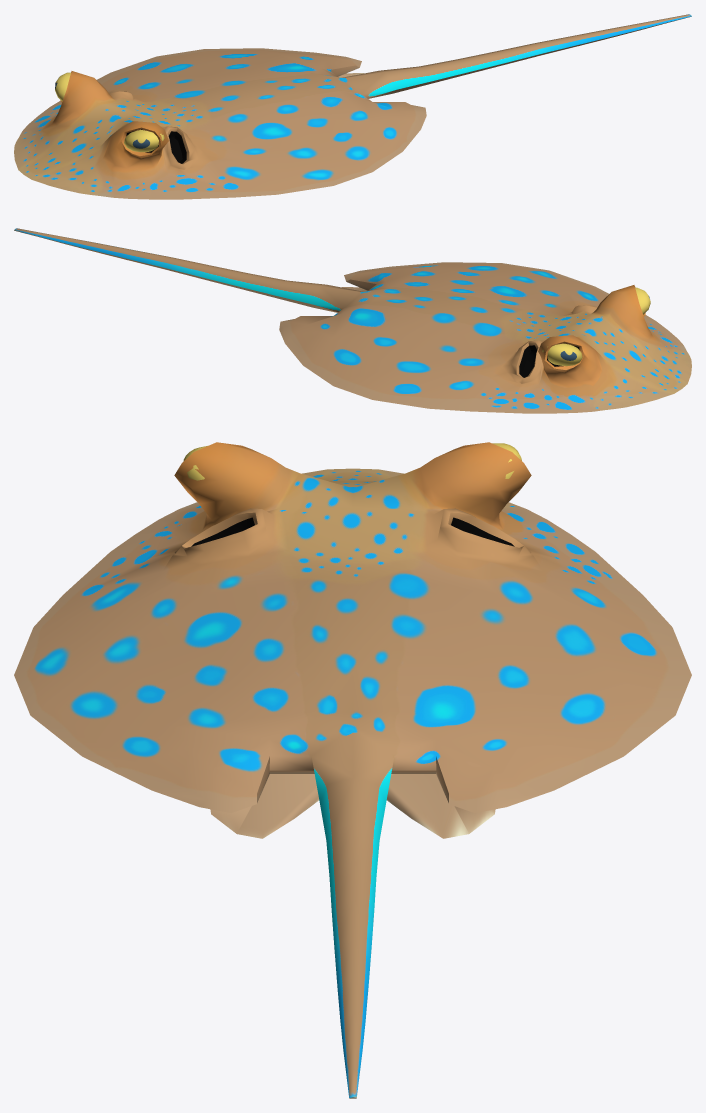
The model's file is Stingray.FBX.
3 renders of one model, top to bottom at view 1: azimuth 30°, elevation 25°; view 2: azimuth 150°, elevation 25°; view 3: azimuth 270°, elevation 25°, orthographic. The views are drawn at different scales.
Visible parts, largest first — view 1: Tail, Eyeball; view 2: Tail, Eyeball001; view 3: Tail.
Boxes of the visible parts, x1=… form: Tail: x1=14, y1=14, x2=691, y2=199; Eyeball: x1=124, y1=129, x2=164, y2=152; Tail: x1=14, y1=228, x2=691, y2=413; Eyeball001: x1=542, y1=343, x2=582, y2=366; Tail: x1=14, y1=442, x2=691, y2=1098.
Bounding box in the file's own units: 174 × 15.97 × 80.01.
Materials: 2 (2 with a texture image).
